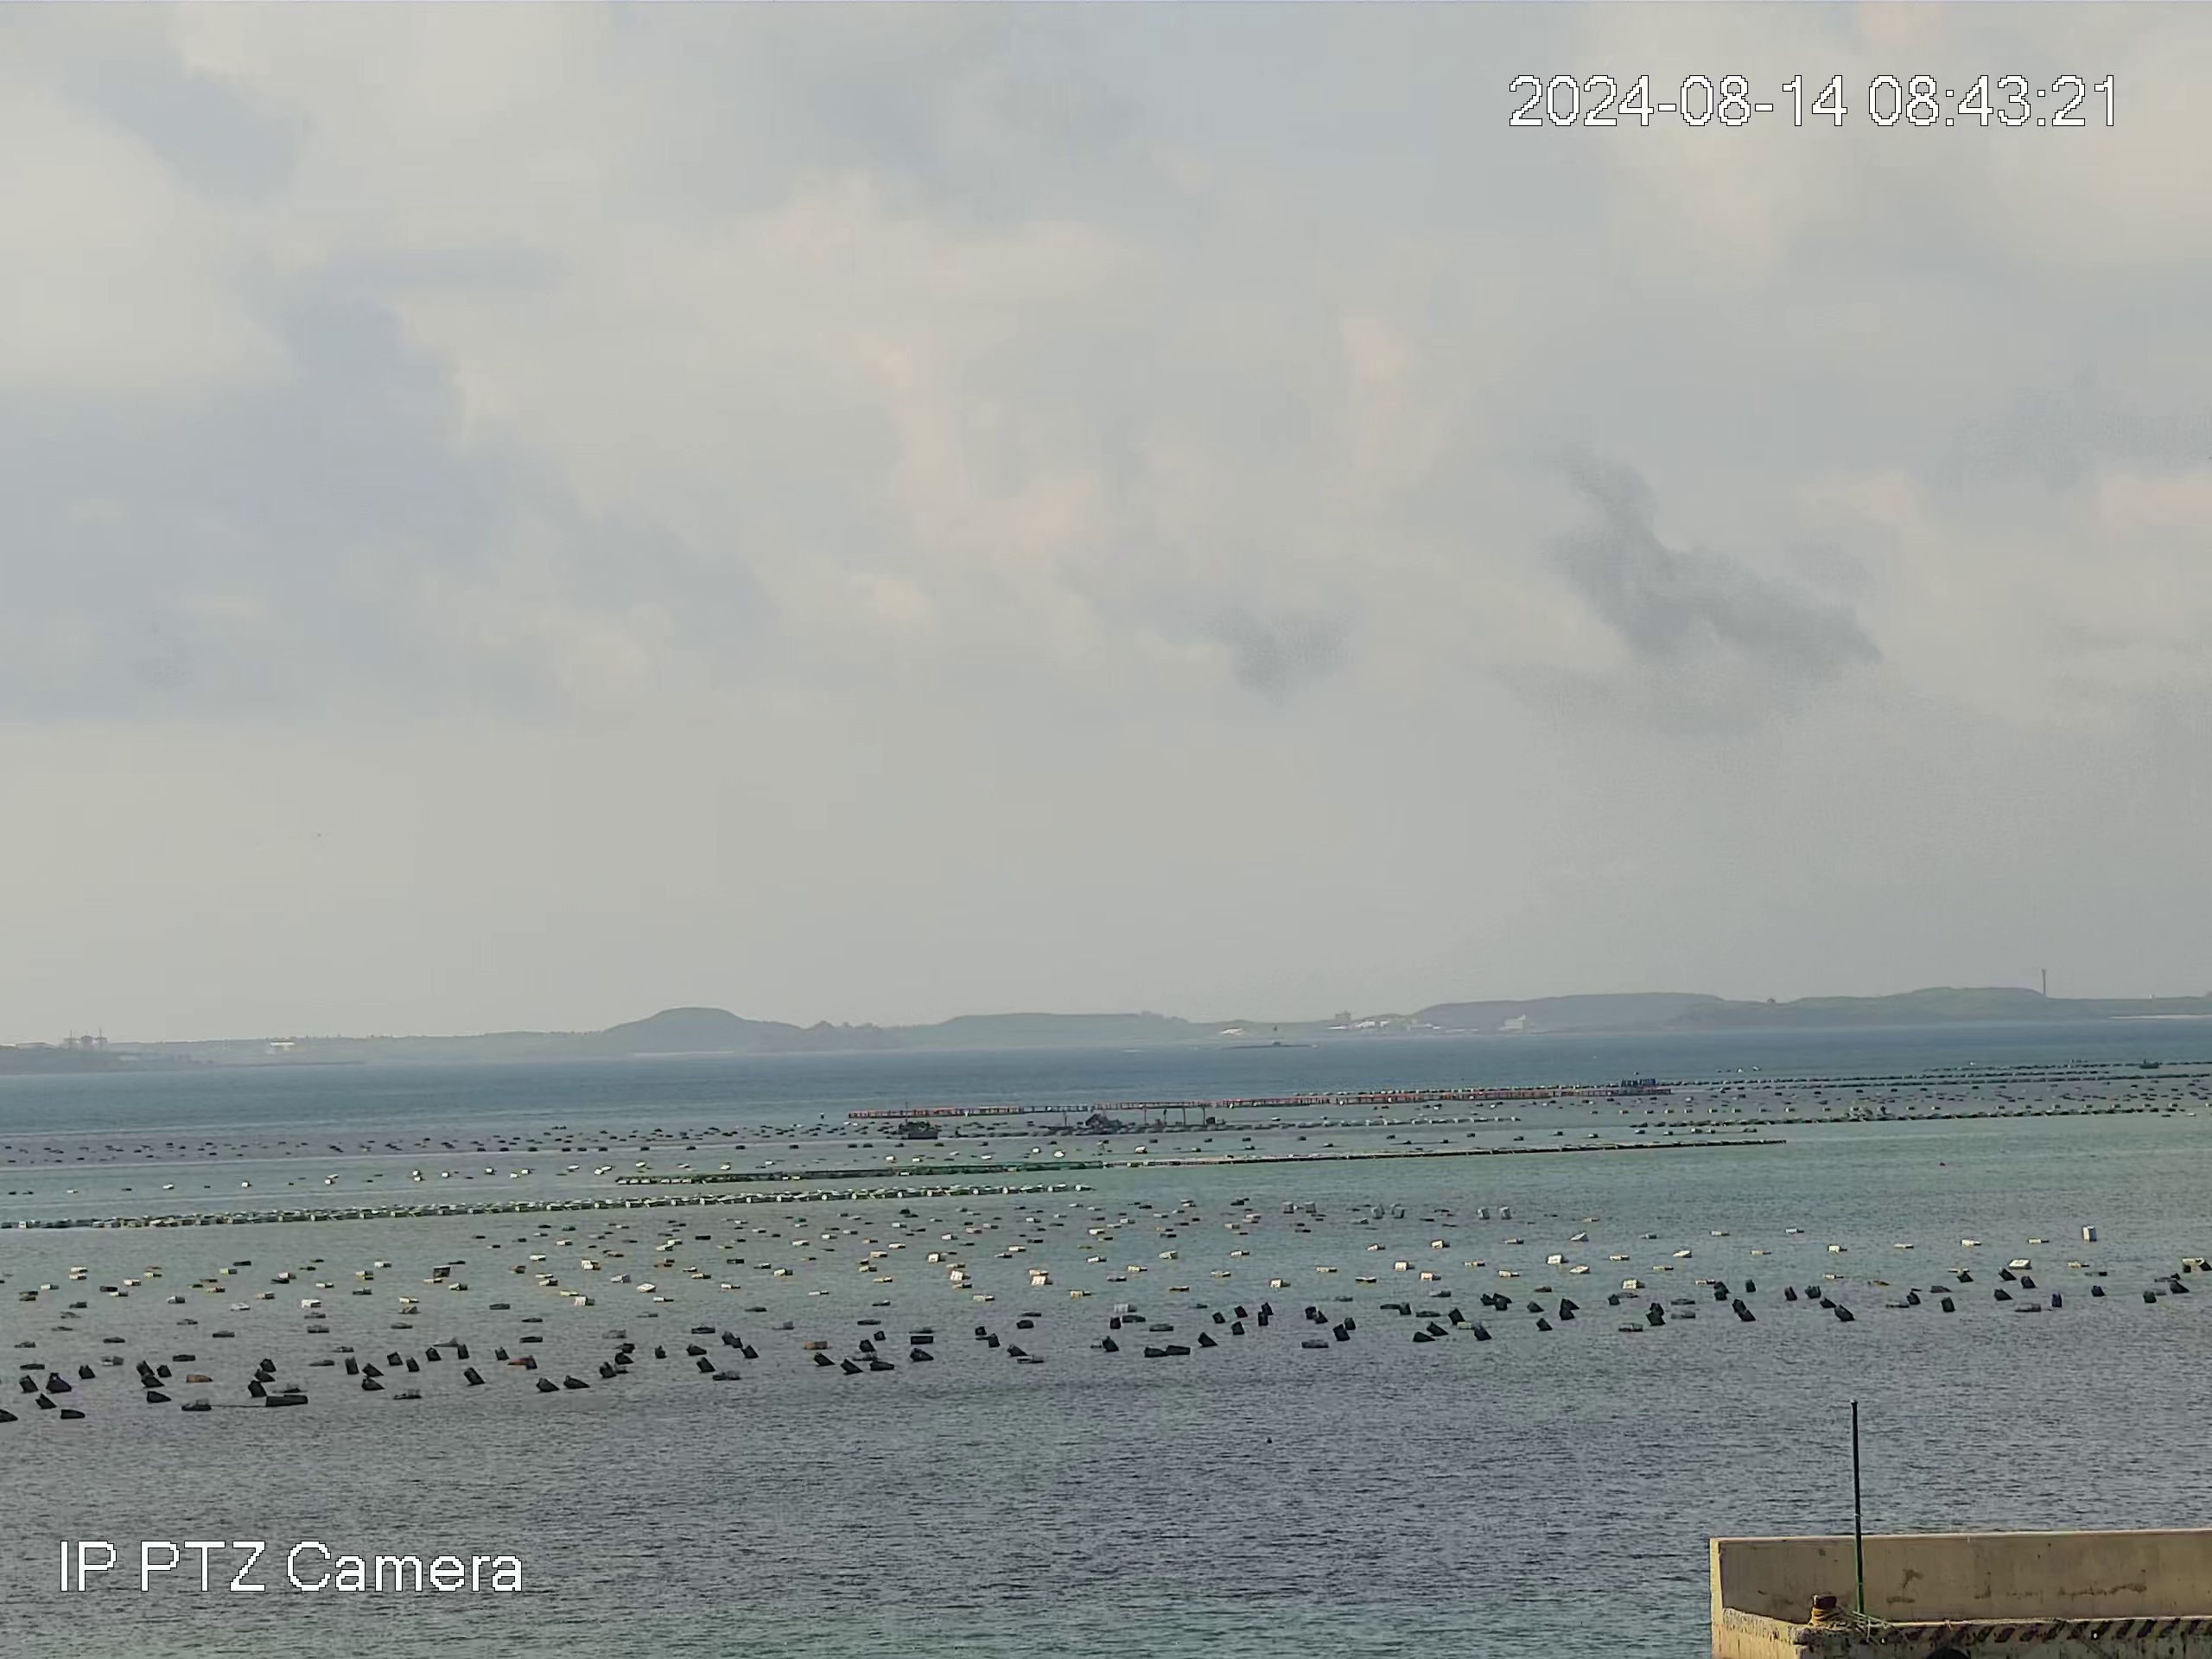boat: (894, 1119, 942, 1140)
